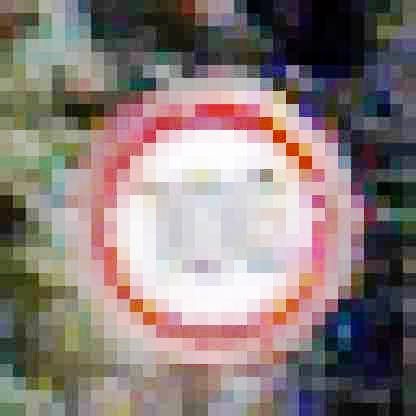Speed Limit -100-: (73, 85, 358, 366)
